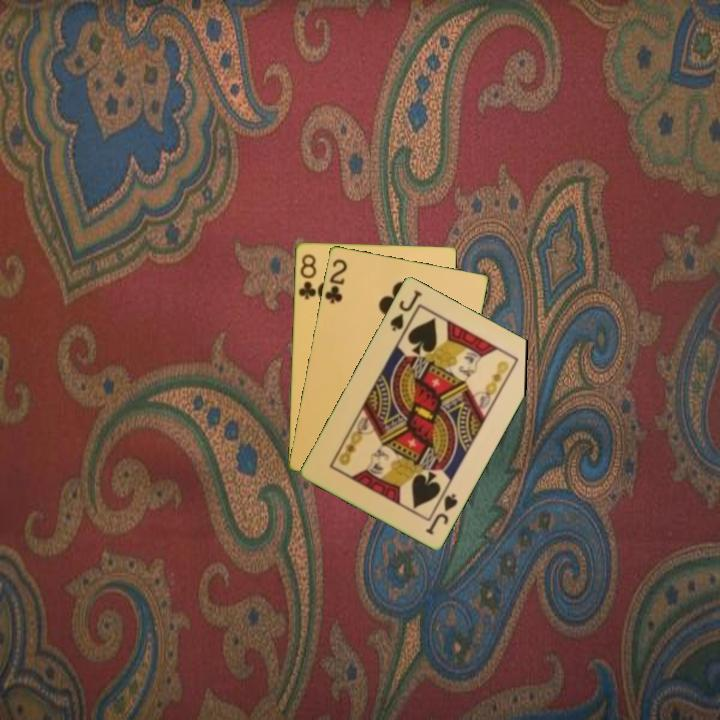2c: (321, 255, 350, 306)
8c: (295, 250, 319, 302)
Js: (386, 286, 425, 334), (422, 490, 461, 538)
